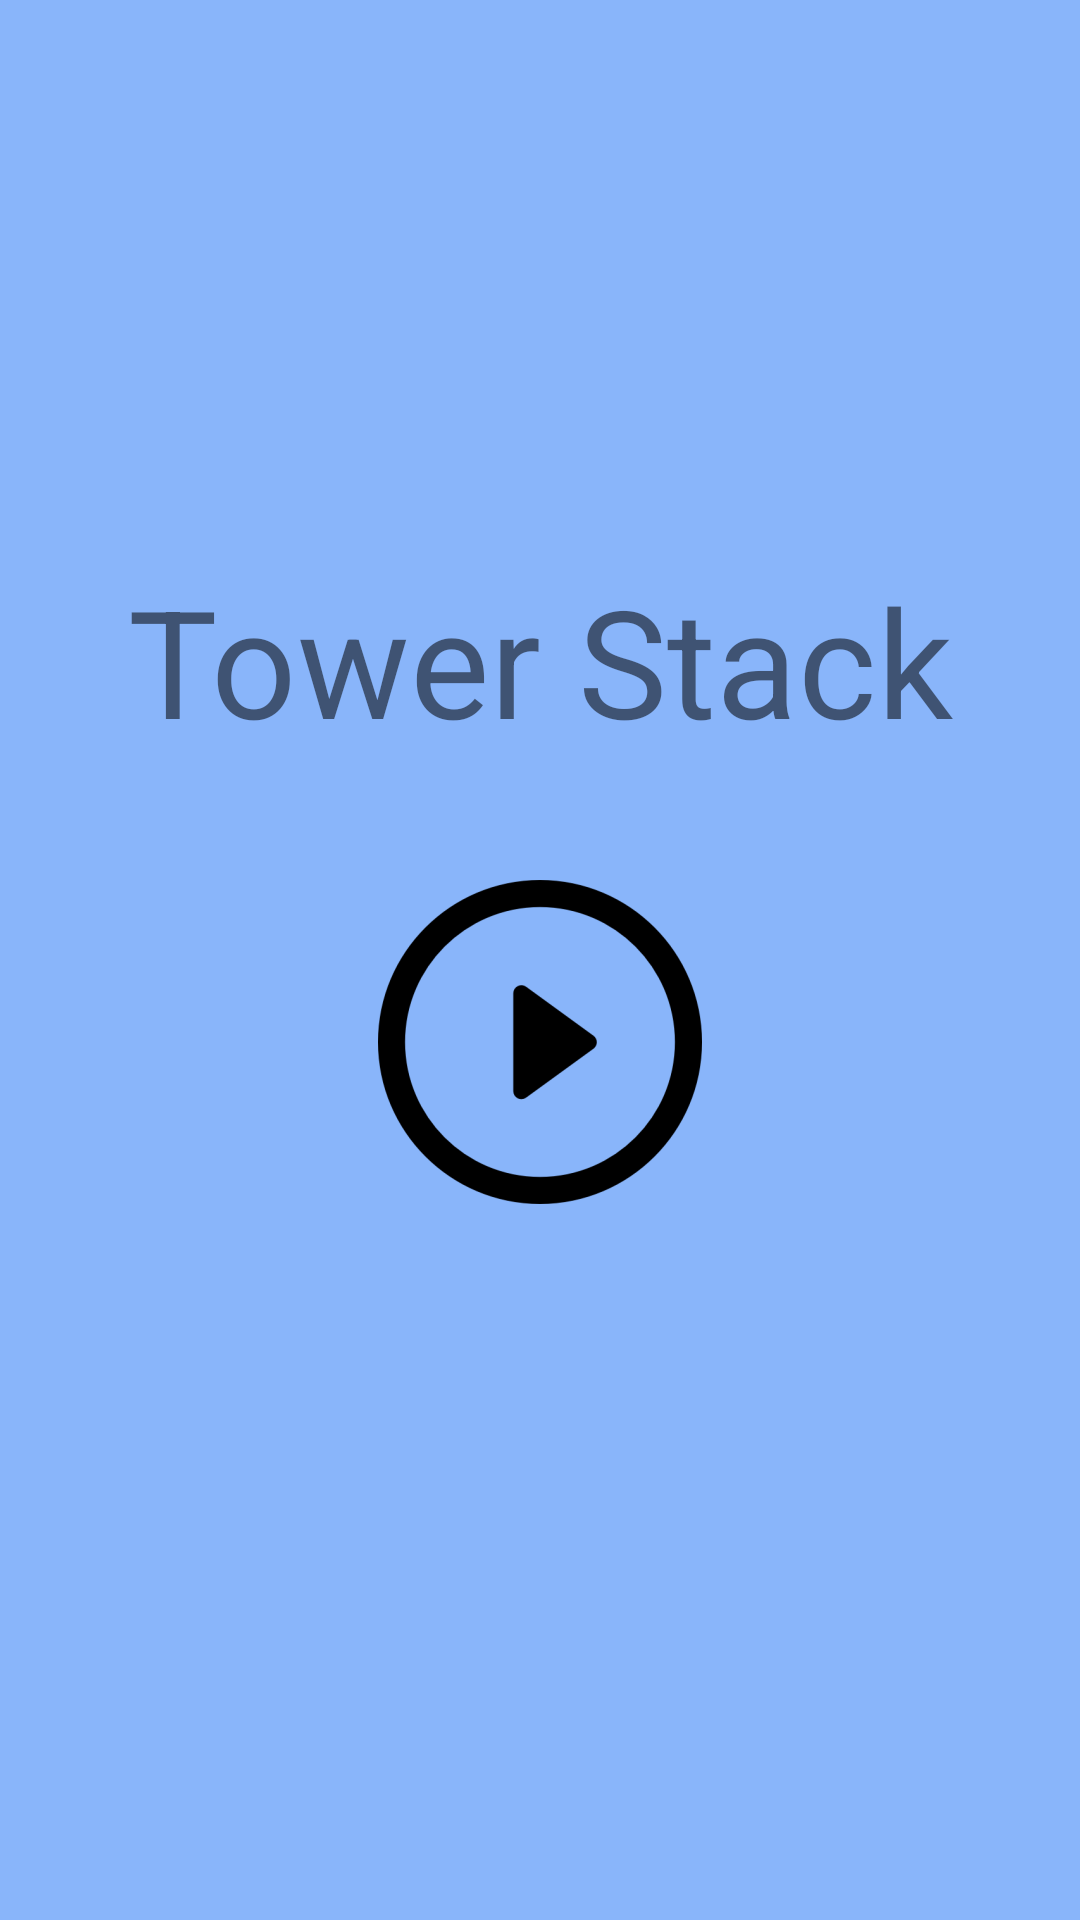

Locate icon controls on the screen. Image size 1080x1920, boxes as (x1, y1, x2, y2).
play: (378, 880, 702, 1204)
